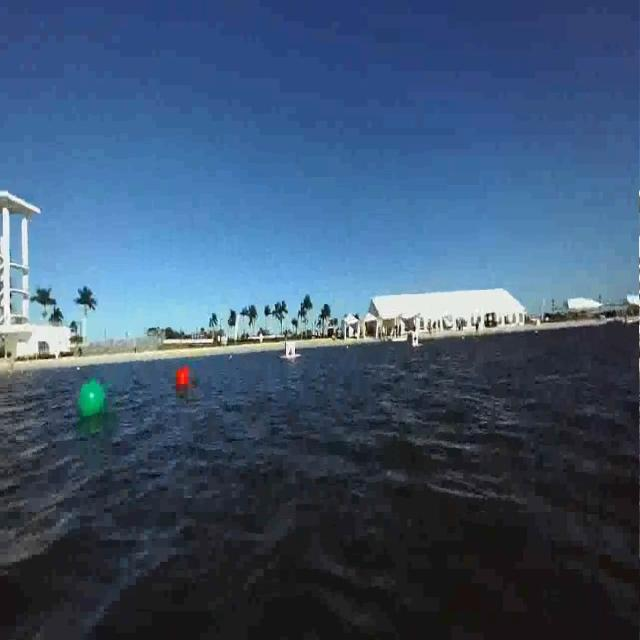green-buoy: (76, 379, 108, 423)
red-buoy: (170, 354, 194, 394)
